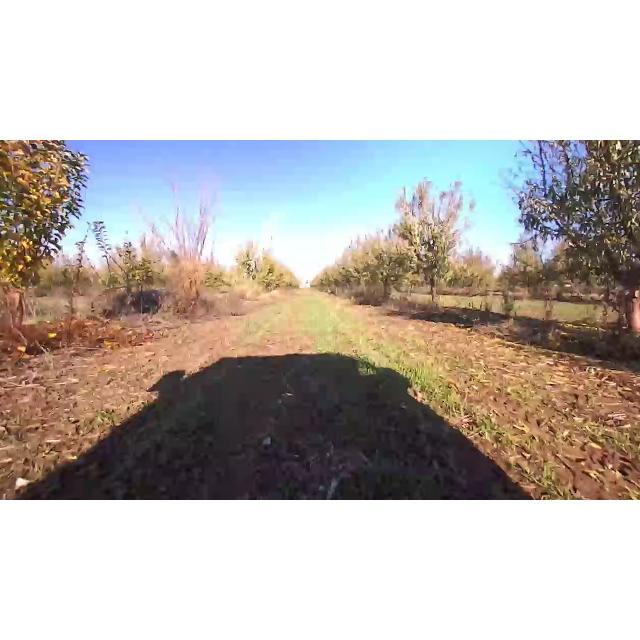direk: (510, 142, 640, 338), (1, 142, 90, 366), (132, 172, 220, 316), (391, 180, 474, 306), (82, 220, 154, 310), (367, 230, 408, 302), (235, 240, 265, 290)
